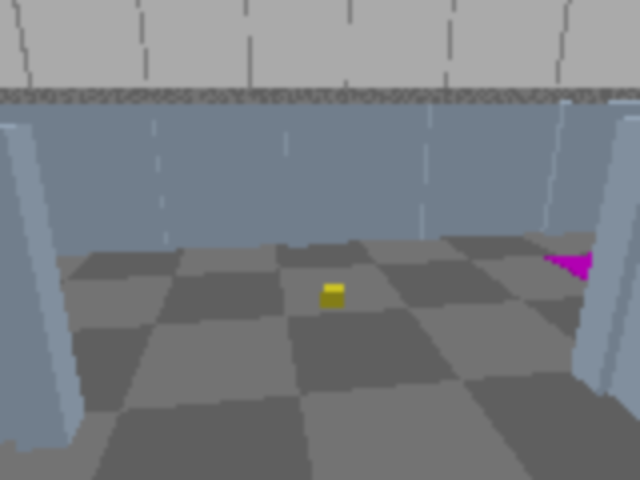puck: (322, 283, 343, 310)
